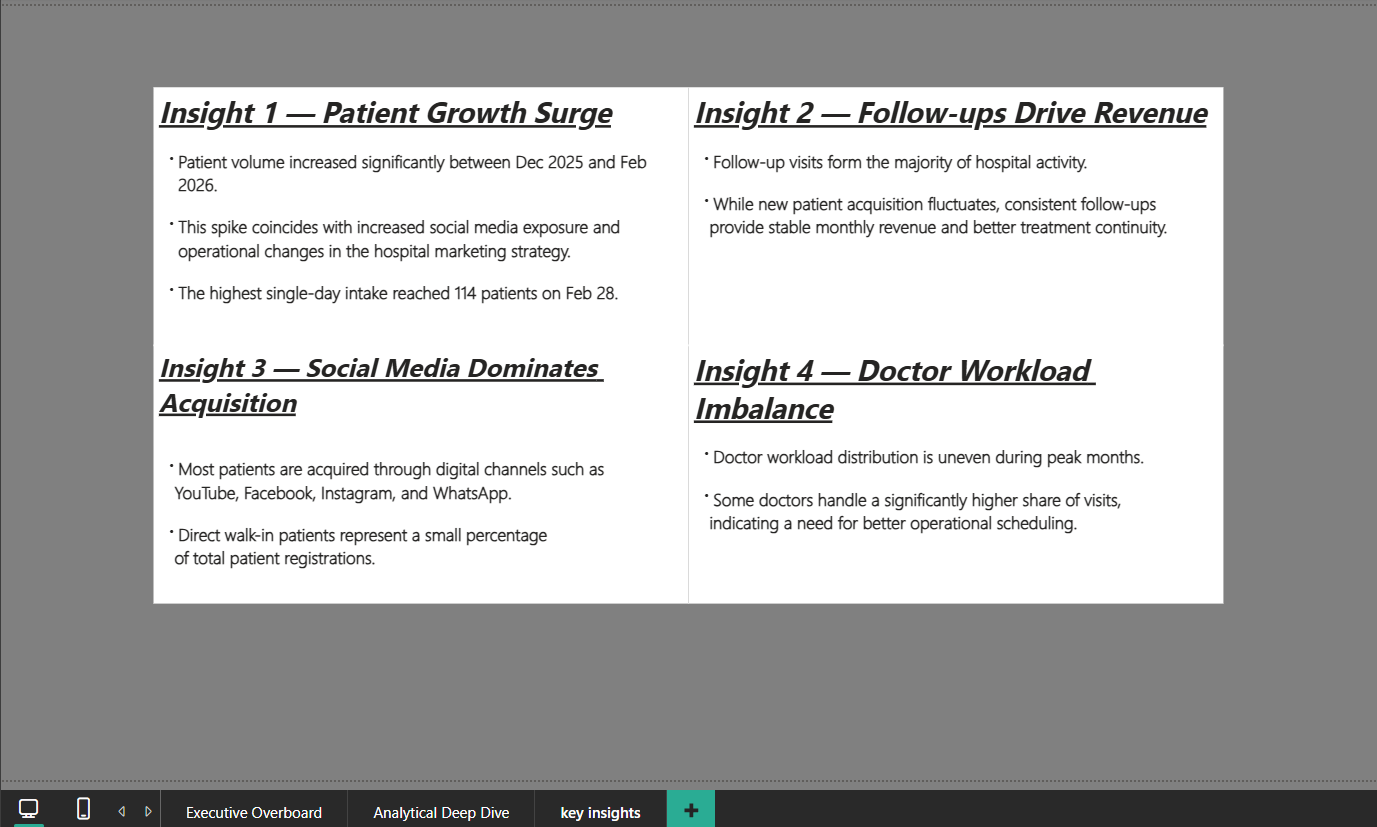

What the dashboard file says about the page in this screenshot:
{"tool":"powerbi","page":{"name":"key insights","canvas":[1280,720],"ordinal":2},"visuals":[{"type":"textbox","box":[141.9,75.6,497.7,240.7],"z":0},{"type":"textbox","box":[639.5,75.6,497.7,240.7],"z":1000},{"type":"textbox","box":[141.9,315.1,497.7,240.7],"z":2000},{"type":"textbox","box":[640,315.3,497.8,240.6],"z":3000}]}

Visuals, with their boxes on the page's 1280x720 design canvas (x1, y1, x2, y2). These are canvas units, not pixel positions in the 1377x827 screenshot, which may show the page scaled, cropped or inside an application window:
textbox: (142, 76, 640, 316)
textbox: (640, 76, 1137, 316)
textbox: (142, 315, 640, 556)
textbox: (640, 315, 1138, 556)
